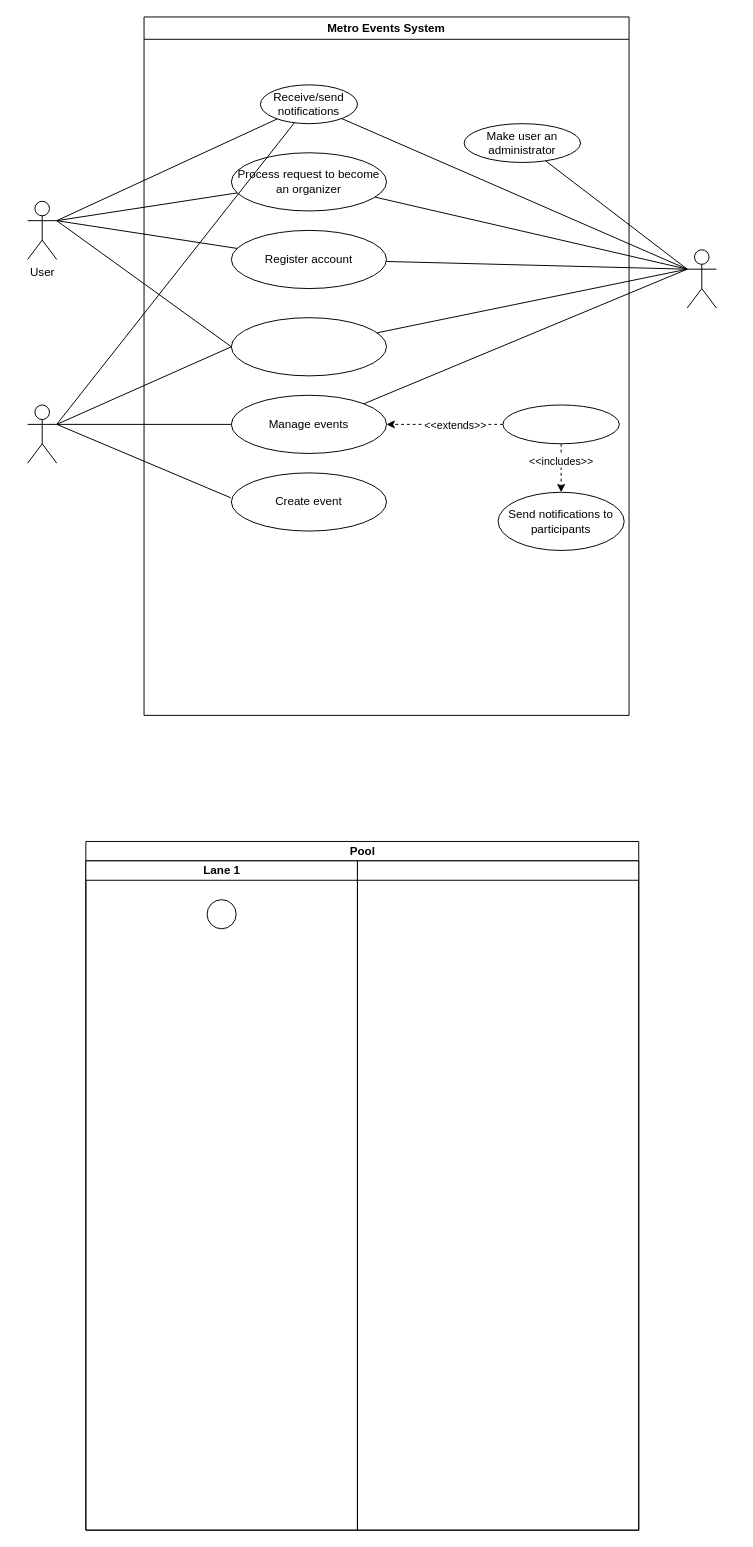
The diagram is 753 pixels wide and 1547 high, and some of its shapes have lost their labels. The shapes that lost their labels are listed below. From the top down, each one's centre as x and y in pixels, then its label:
the point at 701,278: Administrator
the point at 308,346: Request/review intent to join event
the point at 42,433: Organizer
the point at 560,424: Cancel event
the point at 497,1195: Lane 2
